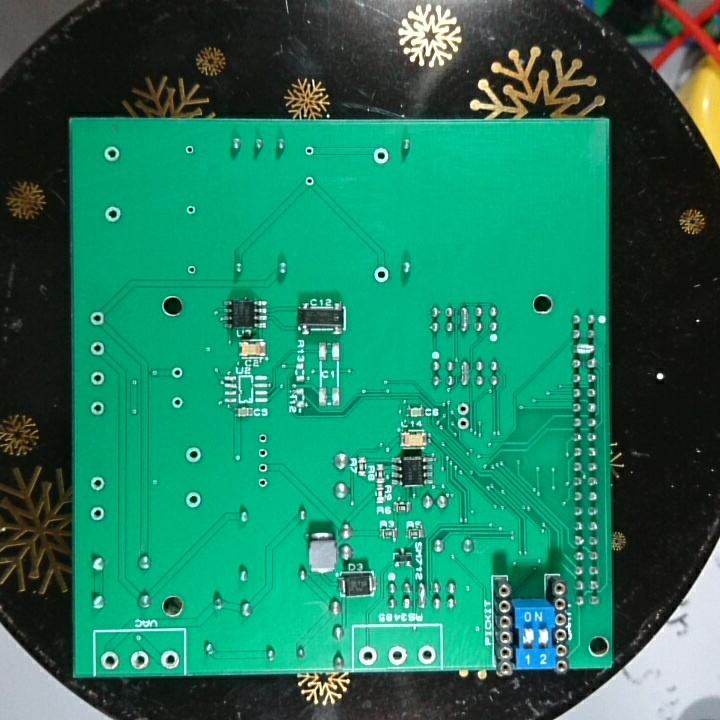F: (97, 648, 127, 675), (356, 642, 381, 667), (386, 643, 412, 666), (158, 648, 182, 672), (416, 642, 439, 666), (129, 649, 152, 672), (370, 145, 392, 168), (101, 142, 124, 164), (183, 444, 204, 468), (86, 397, 110, 418), (87, 368, 110, 389), (104, 202, 126, 223), (184, 488, 205, 510), (88, 503, 108, 525), (88, 309, 108, 329), (88, 338, 107, 359), (89, 474, 107, 495), (373, 264, 391, 284), (170, 362, 187, 383), (255, 472, 273, 491), (455, 415, 473, 432), (454, 400, 472, 416), (170, 391, 184, 411), (183, 143, 199, 160), (302, 143, 317, 160), (184, 262, 199, 279), (256, 458, 271, 475), (303, 173, 318, 189), (256, 431, 271, 446), (184, 203, 199, 217), (256, 446, 271, 460)
P: (570, 341, 599, 357), (458, 303, 471, 338), (416, 578, 429, 613), (460, 358, 472, 390)
